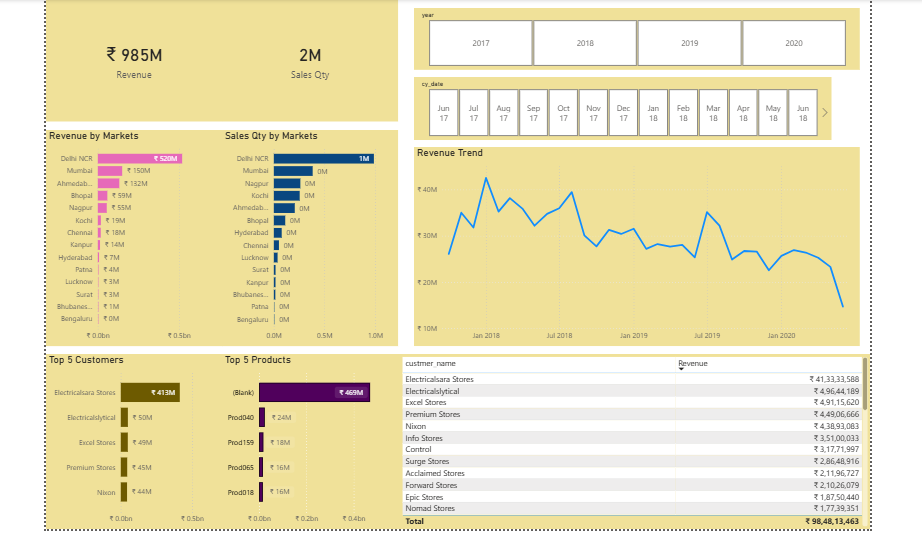

Layout of this report page (visuals, bound fields, positions):
{"tool":"powerbi","page":{"name":"Page 1","canvas":[1400,900],"ordinal":0},"visuals":[{"type":"card","fields":{"Values":["BaseMeasures.Revenue"]},"box":[0,0,299.5,207.6],"z":0},{"type":"card","fields":{"Values":["BaseMeasures.Sales Qty"]},"box":[299.5,0,299.5,207.6],"z":1000},{"type":"card","fields":{"Values":["BaseMeasures.Sales Qty"]},"box":[299.5,0,299.5,207.6],"z":2000},{"type":"clusteredBarChart","title":"Revenue by Markets","fields":{"Y":["BaseMeasures.Revenue"],"Category":["markets.markets_name"]},"box":[0,222.5,298.9,366.8],"z":3000},{"type":"clusteredBarChart","title":"Sales Qty by Markets","fields":{"Y":["BaseMeasures.Sales Qty"],"Category":["markets.markets_name"]},"box":[299.5,222.3,299.5,367.5],"z":4000},{"type":"slicer","fields":{"Values":["date.year"]},"box":[624.7,14.7,757,104.7],"z":5000},{"type":"slicer","fields":{"Values":["date.cy_date"]},"box":[624.7,132.3,709.2,106.6],"z":6000},{"type":"clusteredBarChart","title":"Top 5 Customers","fields":{"Y":["BaseMeasures.Revenue"],"Category":["customers.custmer_name"]},"box":[0,602.6,299.5,297.6],"z":7000},{"type":"clusteredBarChart","title":"Top 5 Products","fields":{"Y":["BaseMeasures.Revenue"],"Category":["products.product_code"]},"box":[299.5,602.6,325.2,297.6],"z":8000},{"type":"lineChart","title":"Revenue Trend","fields":{"Y":["BaseMeasures.Revenue"],"Category":["date.cy_date"]},"box":[624.9,251.3,757.4,337.9],"z":9000},{"type":"tableEx","title":"Top 5 Customers","fields":{"Values":["customers.custmer_name","BaseMeasures.Revenue"]},"box":[599,602.6,801,297.6],"z":10000}]}

Visuals, with their boxes in screenshot pixels (x1, y1, x2, y2):
card - BaseMeasures.Revenue: detection(86, 17, 256, 134)
card - BaseMeasures.Sales Qty: detection(256, 17, 425, 134)
card - BaseMeasures.Sales Qty: detection(256, 17, 425, 134)
"Revenue by Markets" clusteredBarChart: detection(86, 143, 256, 350)
"Sales Qty by Markets" clusteredBarChart: detection(256, 143, 425, 351)
slicer - date.year: detection(440, 25, 868, 84)
slicer - date.cy_date: detection(440, 92, 841, 152)
"Top 5 Customers" clusteredBarChart: detection(86, 358, 256, 526)
"Top 5 Products" clusteredBarChart: detection(256, 358, 440, 526)
"Revenue Trend" lineChart: detection(440, 159, 869, 350)
"Top 5 Customers" tableEx: detection(425, 358, 879, 526)
